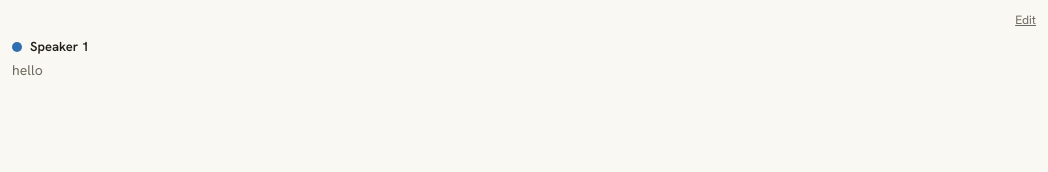
it: TranscriptEditor edit mode (#168) › keeps click-to-edit on the transcript body
Click the text "hello" at (27, 70), box [12,61,43,79]
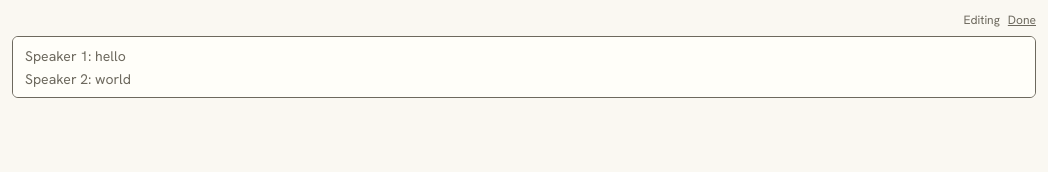
expect the text box is shown: met, box [12,36,1036,98]
